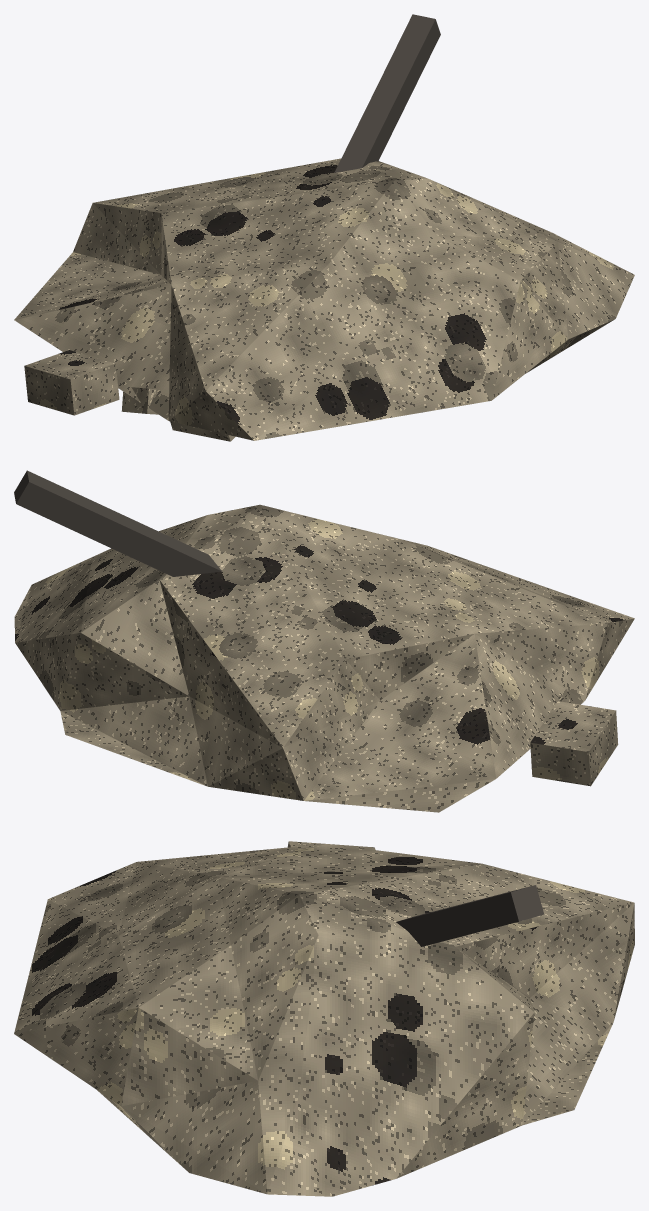
Rendered from rubble_pile_medium.glb.
The picture shows the model from 3 angles, top to bottom: view 1: azimuth 30°, elevation 25°; view 2: azimuth 150°, elevation 25°; view 3: azimuth 270°, elevation 25°; orthographic projection. The views are drawn at different scales.
Visible parts, largest first — view 1: rubble_pile_medium-col; view 2: rubble_pile_medium-col; view 3: rubble_pile_medium-col.
Boxes of the visible parts, box(x1,y1,x2,y2) form: rubble_pile_medium-col: box(14, 14, 634, 441); rubble_pile_medium-col: box(14, 470, 634, 812); rubble_pile_medium-col: box(14, 841, 634, 1196).
Bounding box in the file's own units: 2.3 × 0.955 × 1.83.
2 materials, 1 textured.
